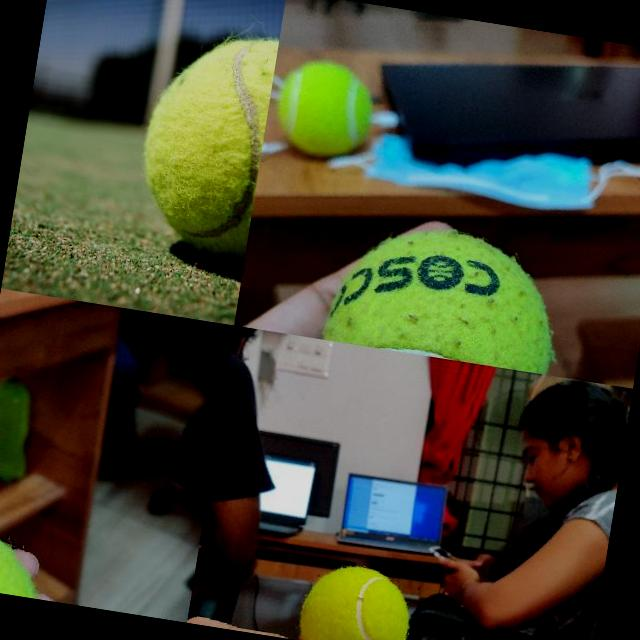Tennis Ball: (323, 215, 567, 374), (128, 20, 278, 269), (270, 55, 378, 161), (298, 559, 415, 640)
